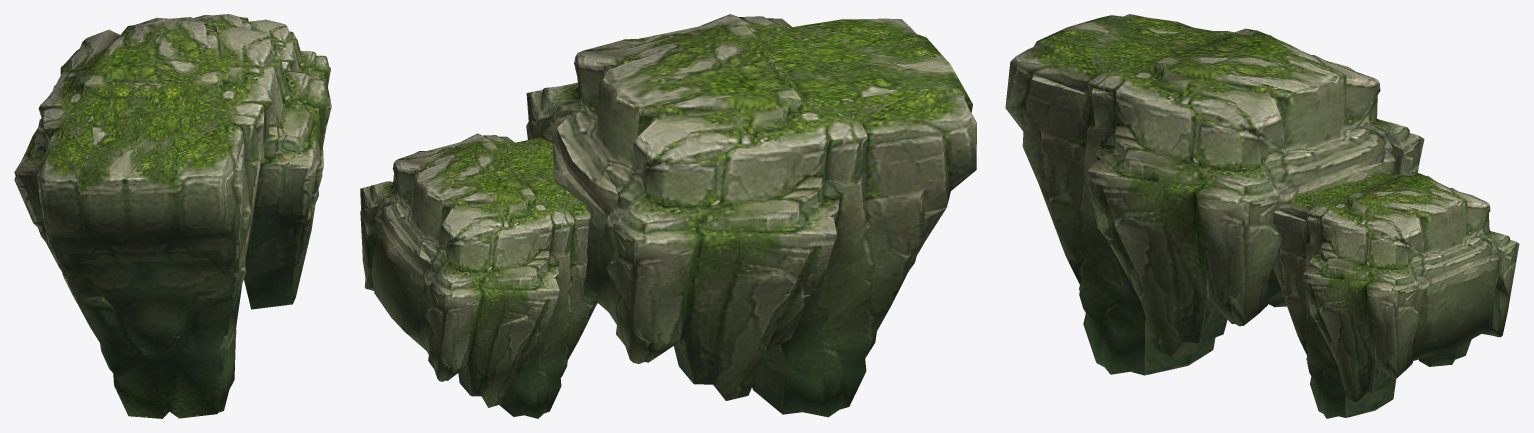
Rendered from 4004_Item_shitou_5.FBX.
3 views of the same model, side by side, from view 1: azimuth 30°, elevation 25°; view 2: azimuth 150°, elevation 25°; view 3: azimuth 270°, elevation 25° (orthographic). The views are drawn at different scales.
Parts seen in each view (by area): view 1: 4004_Item_shitou_5; view 2: 4004_Item_shitou_5; view 3: 4004_Item_shitou_5.
Part boxes in pixels (box(x1,y1,x2,y2)): 4004_Item_shitou_5: box(14, 14, 331, 418); 4004_Item_shitou_5: box(360, 14, 976, 418); 4004_Item_shitou_5: box(1005, 14, 1519, 418).
Bounding box in the file's own units: 1715 × 1275 × 1789.
